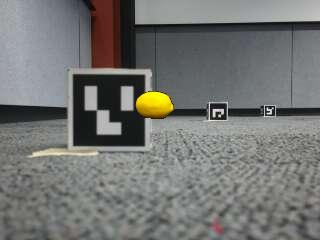lemon: (136, 91, 173, 118)
